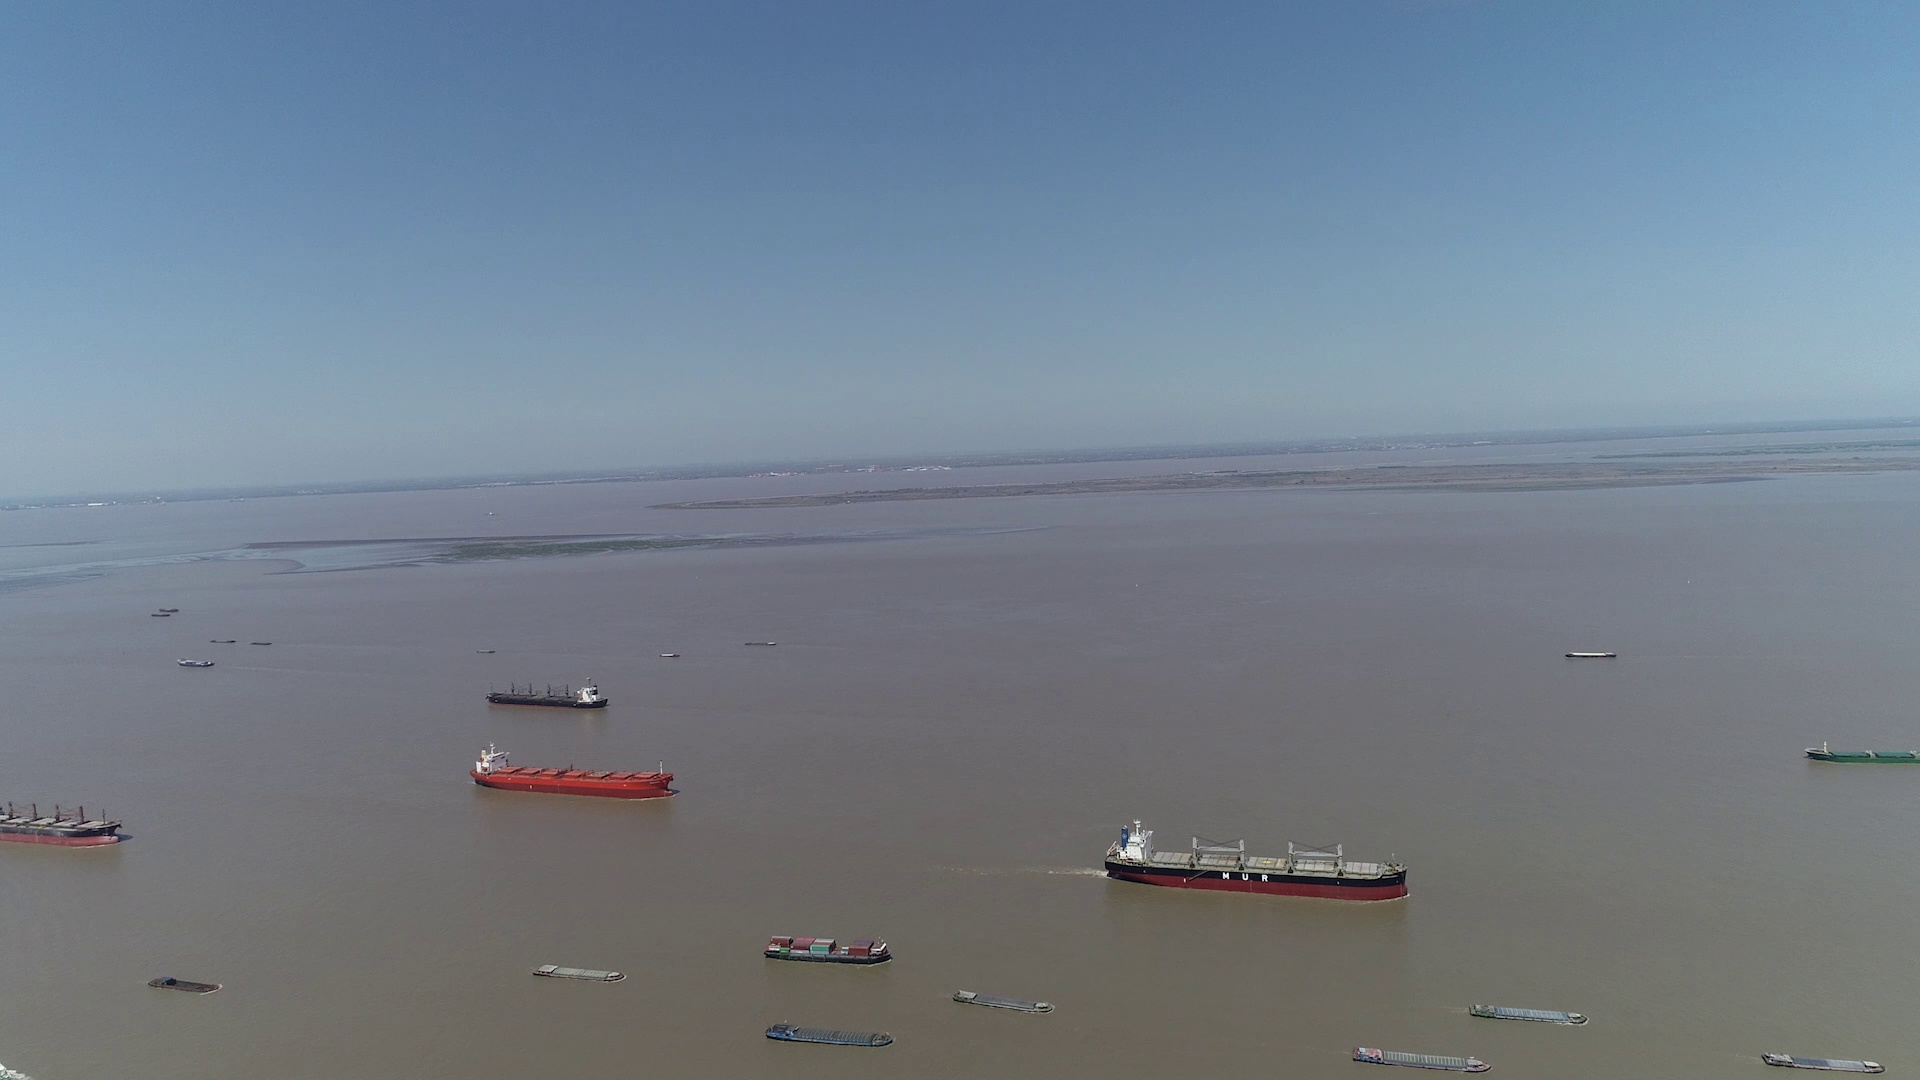ship: (1102, 820, 1411, 902), (467, 741, 673, 799), (1, 786, 123, 847), (752, 975, 903, 1009), (764, 934, 894, 965), (1349, 1044, 1489, 1073), (484, 679, 611, 709), (764, 1023, 895, 1048), (1760, 1050, 1882, 1073), (1470, 1002, 1586, 1026), (952, 989, 1058, 1014), (1804, 741, 1917, 764), (531, 964, 624, 984), (146, 975, 224, 993), (1564, 650, 1618, 659), (178, 658, 215, 669)
